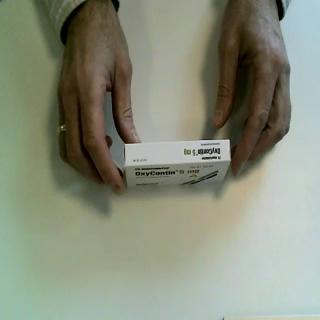oxycontin5mg: (123, 139, 234, 191)
